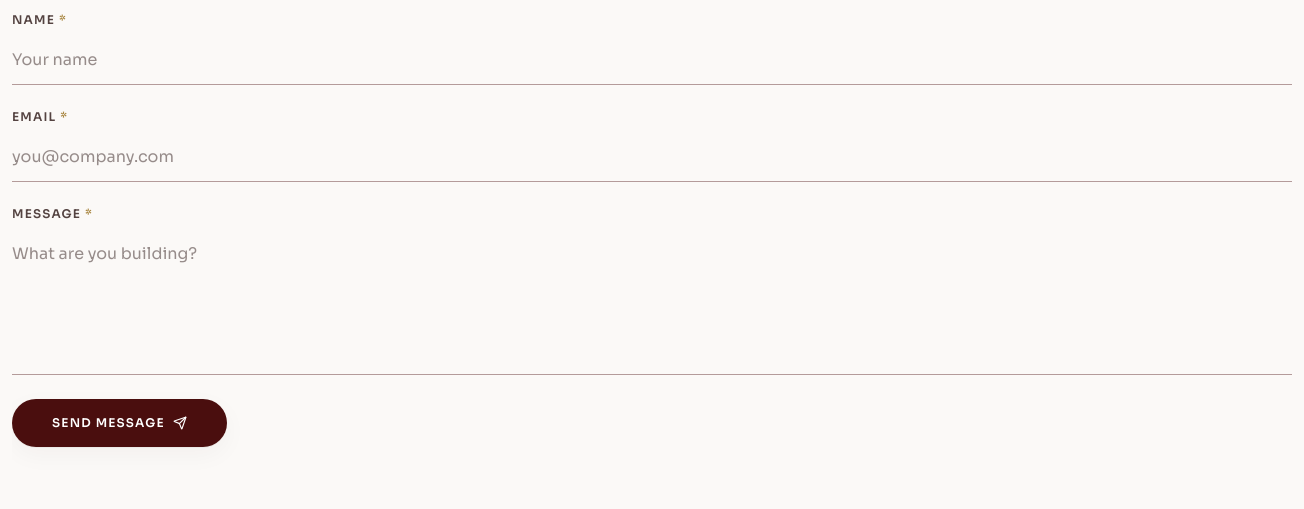
Test case: ContactForm › sends the form through EmailJS and resets it on success
Type "Piyush" into the field labelled "Name *" at (652, 60), box [12,36,1292,85]
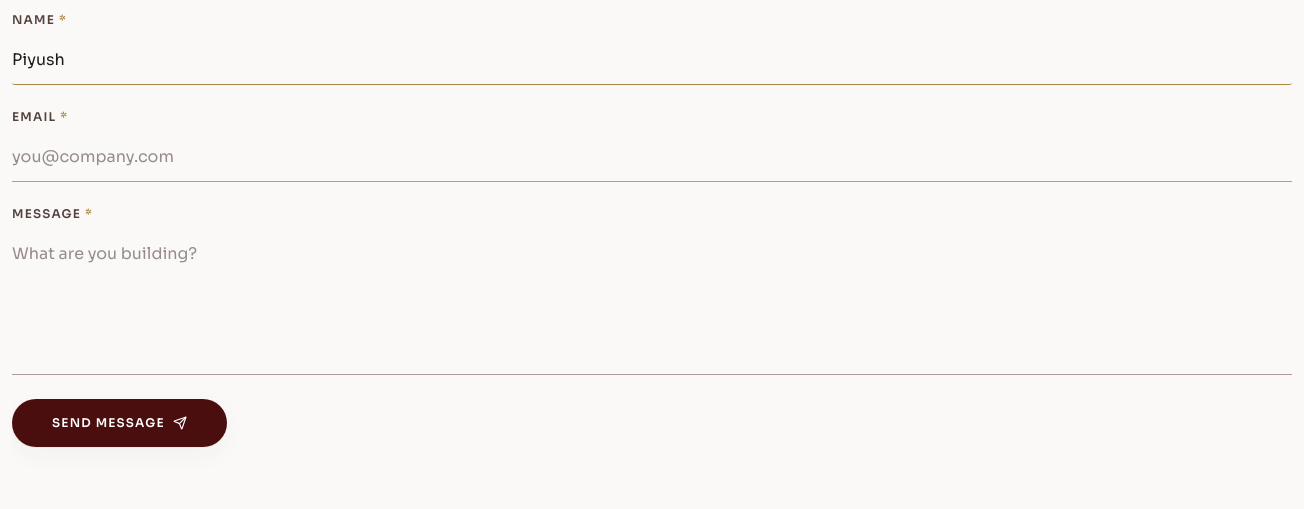
Type "piyush@example.com" into the field labelled "Email *" at (652, 158), box [12,133,1292,182]
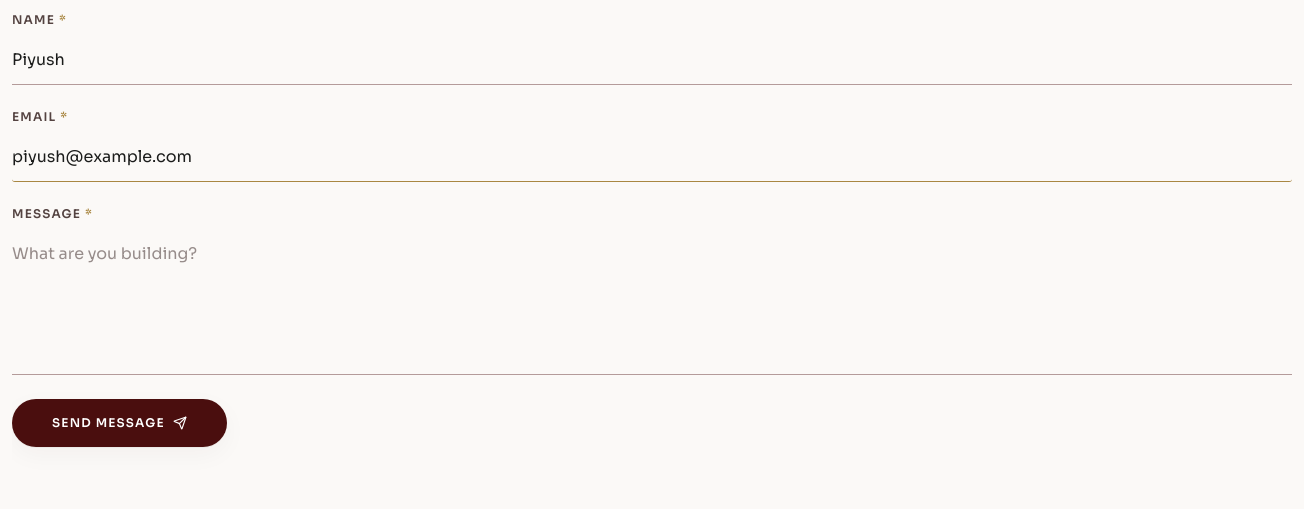
Type "I would like to discuss a product role." into the text box labelled "Message *" at (652, 302), box [12,230,1292,375]
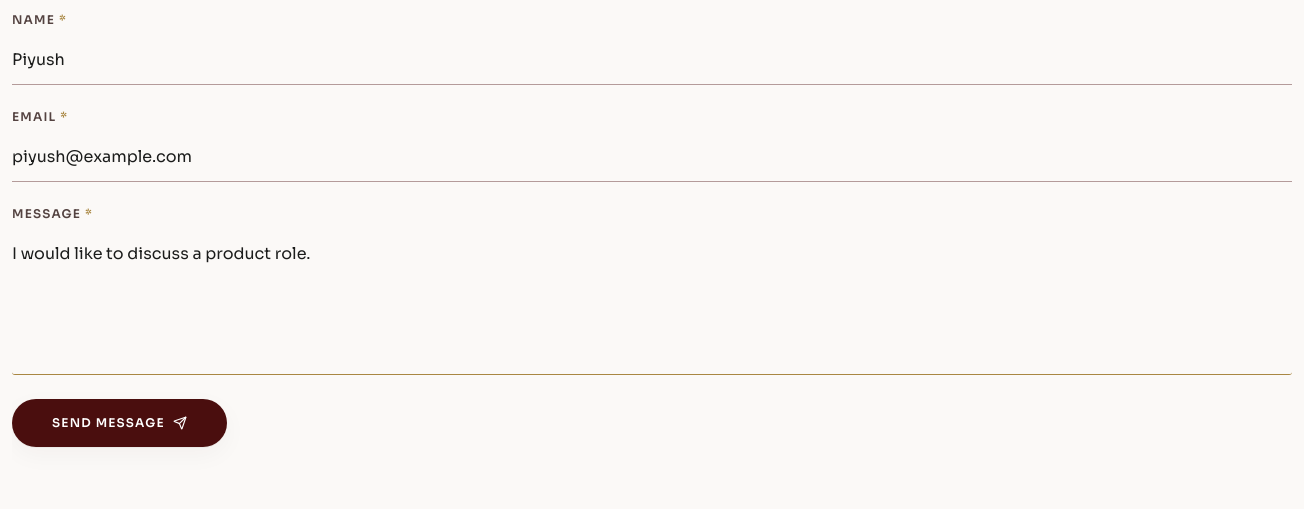
Click the button "Send message" at (119, 423), box [12,399,227,447]
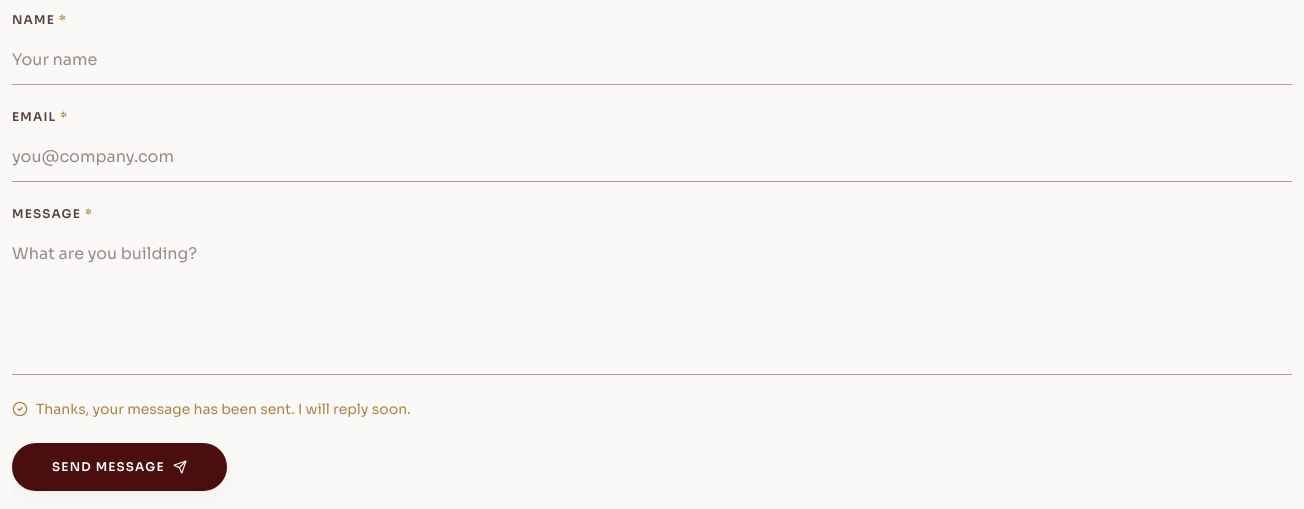
expect the text "Thanks, your message has been sent. I will reply soon." is shown: met, box [12,400,411,418]
expect the field labelled "Name *" is empty: met, box [12,36,1292,85]
